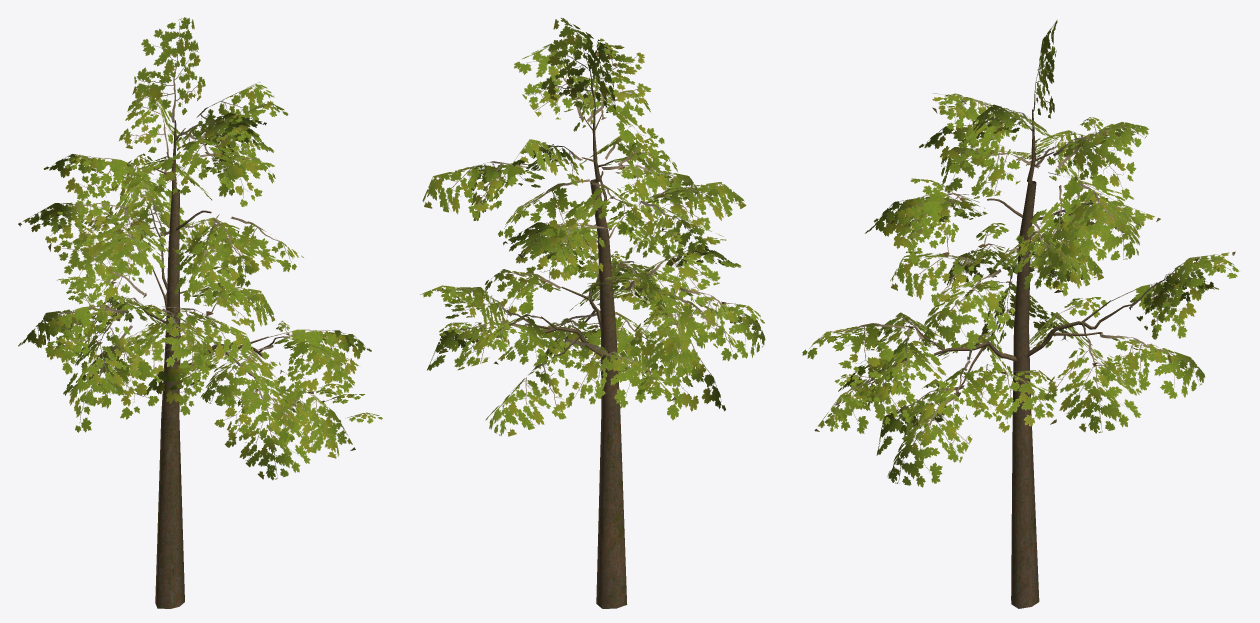
Rendered from SM_Tree_01.fbx.
The picture shows the model from 3 angles, left to right: view 1: azimuth 30°, elevation 25°; view 2: azimuth 150°, elevation 25°; view 3: azimuth 270°, elevation 25°; orthographic projection. The views are drawn at different scales.
Parts seen in each view (by area): view 1: SM_Tree_01_LOD0; view 2: SM_Tree_01_LOD0; view 3: SM_Tree_01_LOD0.
Boxes of the visible parts, x1=… form: SM_Tree_01_LOD0: x1=18, y1=17, x2=382, y2=608; SM_Tree_01_LOD0: x1=420, y1=18, x2=765, y2=608; SM_Tree_01_LOD0: x1=802, y1=20, x2=1239, y2=608.
Size of what is drawn, in the model's own units: 4.8 by 8.72 by 5.96.
